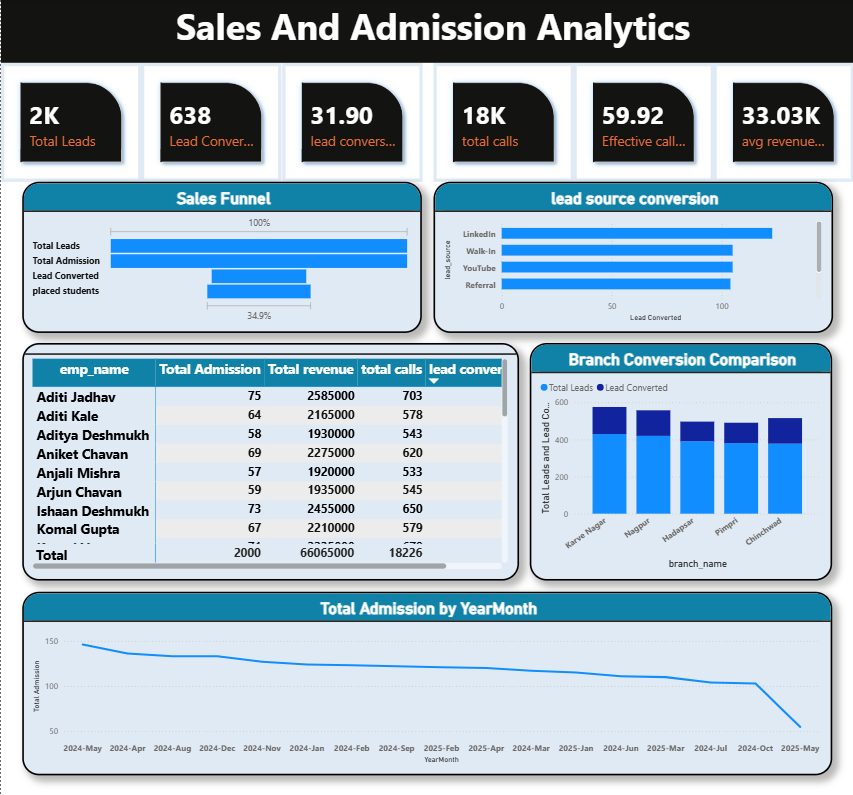

This screenshot's page, from the dashboard's own definition file:
{"tool":"powerbi","page":{"name":"Sales Analytics","canvas":[1280,1200],"ordinal":1},"visuals":[{"type":"textbox","box":[0,0,1280,96],"z":0},{"type":"cardVisual","fields":{"Data":["Lead Measures.Total Leads"]},"box":[0,96,208,176],"z":1000},{"type":"cardVisual","fields":{"Data":["Lead Measures.Lead Converted"]},"box":[208,96,208,176],"z":2000},{"type":"cardVisual","fields":{"Data":["Lead Measures.lead conversion %"]},"box":[416,96,208,176],"z":3000},{"type":"cardVisual","fields":{"Data":["call measures.total calls"]},"box":[640,96,208,176],"z":4000},{"type":"cardVisual","fields":{"Data":["call measures.Effective call %"]},"box":[848,96,208,176],"z":5000},{"type":"cardVisual","fields":{"Data":["Revenue Measures.avg revenue per admission"]},"box":[1056,96,208,176],"z":6000},{"type":"funnel","title":"Sales Funnel","fields":{"Y":["Lead Measures.Total Leads","Student Measures.Total Admission","Lead Measures.Lead Converted","Placement Measures.placed students"]},"box":[32,272,592,224],"z":7000},{"type":"clusteredBarChart","title":"lead source conversion","fields":{"Category":["Leads.lead_source"],"Y":["Lead Measures.Lead Converted"]},"box":[640,272,592,224],"z":8000},{"type":"pivotTable","fields":{"Rows":["Employees.emp_name"],"Values":["Student Measures.Total Admission","Revenue Measures.Total revenue","call measures.total calls","Lead Measures.lead conversion %"]},"box":[32,512,736,352],"z":9000},{"type":"columnChart","title":"Branch Conversion Comparison","fields":{"Category":["Branches.branch_name"],"Y":["Lead Measures.Total Leads","Lead Measures.Lead Converted"]},"box":[784,512,448,352],"z":10000},{"type":"lineChart","fields":{"Category":["DateTable.YearMonth"],"Y":["Student Measures.Total Admission"]},"box":[32,880,1200,272],"z":11000}]}

Visuals, with their boxes in screenshot pixels (x1, y1, x2, y2), scaled from the page's 1280x1200 canvas onto the 853x795 screenshot:
textbox: (left=0, top=0, right=852, bottom=64)
cardVisual - Lead Measures.Total Leads: (left=0, top=64, right=139, bottom=180)
cardVisual - Lead Measures.Lead Converted: (left=139, top=64, right=277, bottom=180)
cardVisual - Lead Measures.lead conversion %: (left=277, top=64, right=416, bottom=180)
cardVisual - call measures.total calls: (left=426, top=64, right=565, bottom=180)
cardVisual - call measures.Effective call %: (left=565, top=64, right=704, bottom=180)
cardVisual - Revenue Measures.avg revenue per admission: (left=704, top=64, right=842, bottom=180)
"Sales Funnel" funnel: (left=21, top=180, right=416, bottom=329)
"lead source conversion" clusteredBarChart: (left=426, top=180, right=821, bottom=329)
pivotTable - Employees.emp_name x Student Measures.Total Admission: (left=21, top=339, right=512, bottom=572)
"Branch Conversion Comparison" columnChart: (left=522, top=339, right=821, bottom=572)
lineChart - DateTable.YearMonth x Student Measures.Total Admission: (left=21, top=583, right=821, bottom=763)
